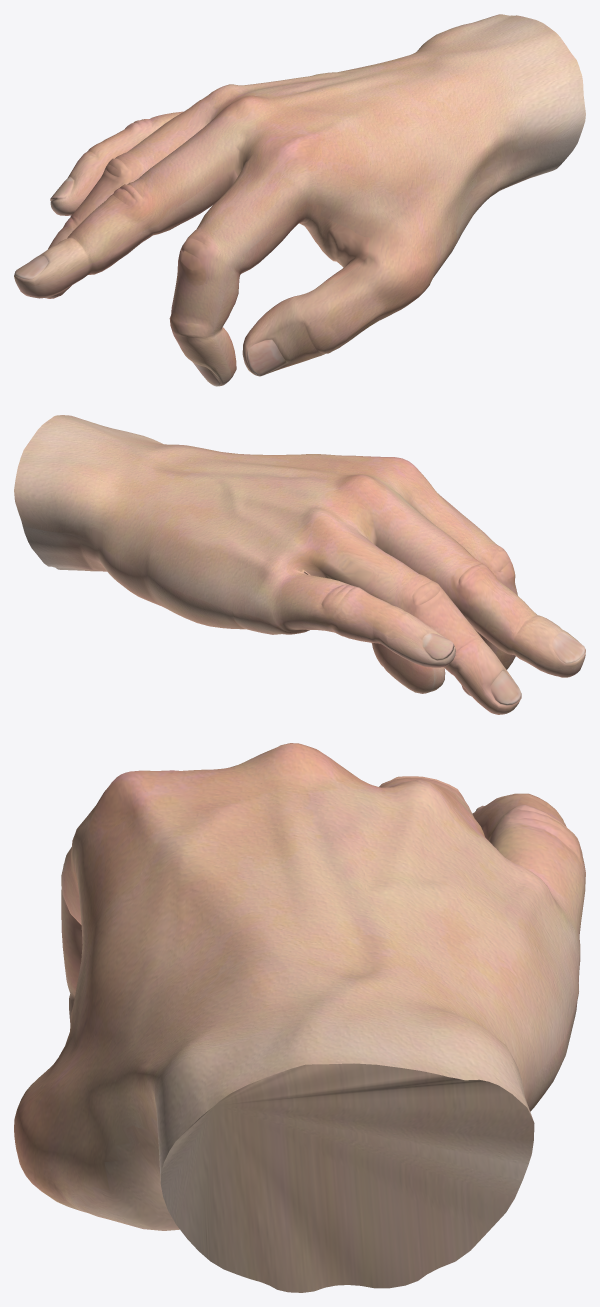
The model's file is hand_17.obj.
3 renders of one model, top to bottom at view 1: azimuth 30°, elevation 25°; view 2: azimuth 150°, elevation 25°; view 3: azimuth 270°, elevation 25°, orthographic. The views are drawn at different scales.
Visible parts, largest first — view 1: Figure_2; view 2: Figure_2; view 3: Figure_2.
Part boxes in pixels (x1,y1,x2,y2): Figure_2: (14, 14, 585, 386); Figure_2: (14, 415, 585, 714); Figure_2: (14, 743, 585, 1292).
Size of the model in its own units: 0.8772 by 0.3743 by 0.4131.
2 materials, 2 textured.
